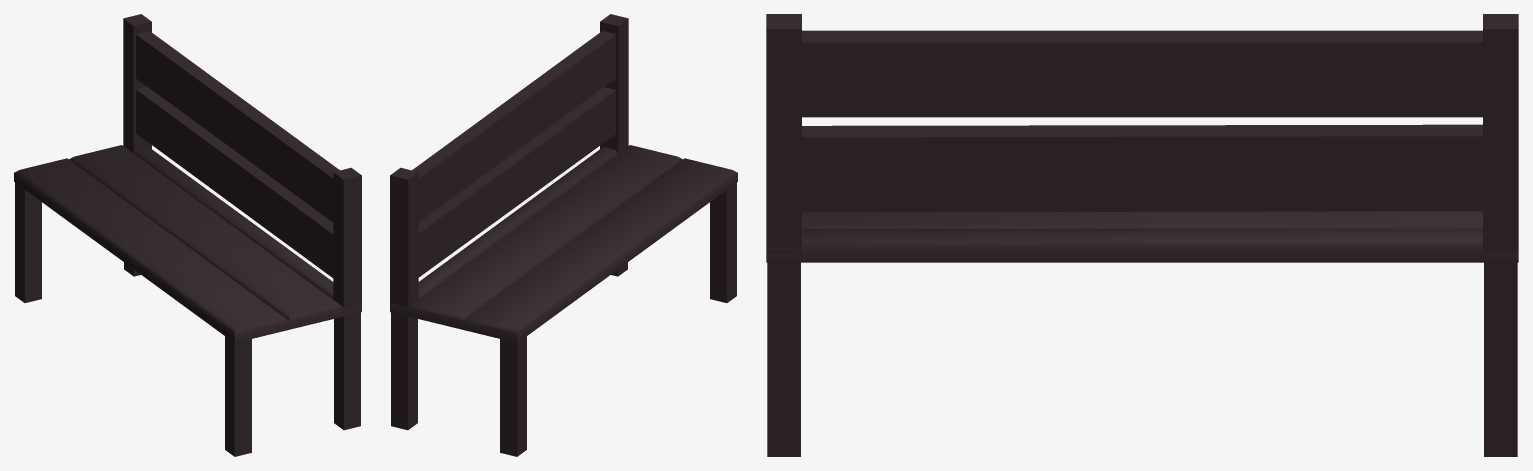
File: outside_bench.fbx
3 views of the same model, side by side, from view 1: azimuth 30°, elevation 25°; view 2: azimuth 150°, elevation 25°; view 3: azimuth 270°, elevation 25° (orthographic). The views are drawn at different scales.
Visible parts, largest first — view 1: outside_bench; view 2: outside_bench; view 3: outside_bench.
Boxes of the visible parts, x1=… form: outside_bench: x1=14, y1=14, x2=361, y2=456; outside_bench: x1=390, y1=14, x2=737, y2=456; outside_bench: x1=766, y1=14, x2=1518, y2=456.
Bounding box in the file's own units: 189 × 63 × 119.
